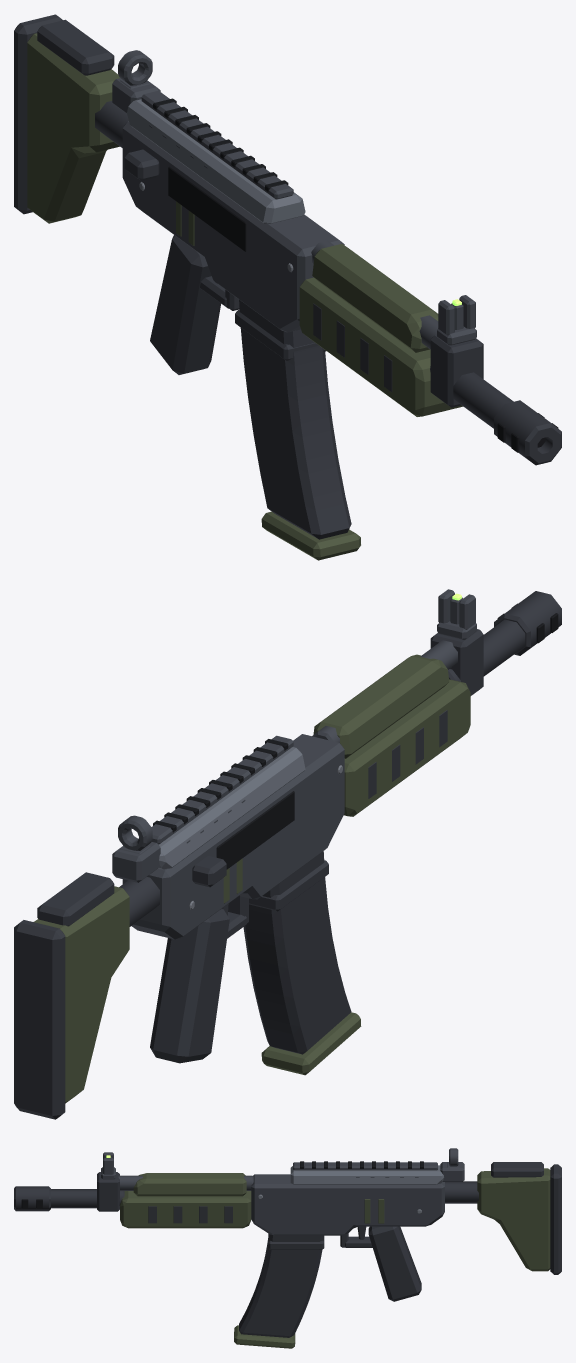
3 views of the same model, one above another, from view 1: azimuth 30°, elevation 25°; view 2: azimuth 150°, elevation 25°; view 3: azimuth 270°, elevation 25° (orthographic). The views are drawn at different scales.
Parts seen in each view (by area): view 1: mag_wzB__dark__p353840, body_wzB__frame__p444851, guard_wzA__body__p4d5640, stock_wzA__body__p4d5640, grip_wzB__dark__p353840, barrel_wzB__dark__p353840, stock_wzB__dark__p353840, sight_wzN__frame__p444851, body_wzA__deck__p676d78, trim_wzN__black__p16171b, mag_wzN__body__p4d5640, guard_wzN__dark__p353840 (+1 smaller); view 2: body_wzB__frame__p444851, mag_wzB__dark__p353840, stock_wzB__dark__p353840, guard_wzA__body__p4d5640, grip_wzB__dark__p353840, stock_wzA__body__p4d5640, sight_wzN__frame__p444851, barrel_wzB__dark__p353840, body_wzA__deck__p676d78, trim_wzN__black__p16171b, mag_wzN__body__p4d5640, guard_wzN__dark__p353840 (+1 smaller); view 3: body_wzB__frame__p444851, guard_wzA__body__p4d5640, mag_wzB__dark__p353840, stock_wzA__body__p4d5640, grip_wzB__dark__p353840, stock_wzB__dark__p353840, barrel_wzB__dark__p353840, body_wzA__deck__p676d78, sight_wzN__frame__p444851, mag_wzN__body__p4d5640, guard_wzN__dark__p353840, trim_wzN__black__p16171b (+1 smaller).
Boxes of the visible parts, x1,y1,x2,y2 form: mag_wzB__dark__p353840: (235,299,351,539); body_wzB__frame__p444851: (122,121,438,349); guard_wzA__body__p4d5640: (299,244,462,416); stock_wzA__body__p4d5640: (27,33,119,223); grip_wzB__dark__p353840: (150,235,239,374); barrel_wzB__dark__p353840: (430,334,561,465); stock_wzB__dark__p353840: (14,14,128,214); sight_wzN__frame__p444851: (112,50,476,345); body_wzA__deck__p676d78: (127,99,305,223); trim_wzN__black__p16171b: (153,98,558,452); mag_wzN__body__p4d5640: (261,511,360,560); guard_wzN__dark__p353840: (313,303,392,392); body_wzB__frame__p444851: (122,640,457,939); mag_wzB__dark__p353840: (243,851,351,1054); stock_wzB__dark__p353840: (14,872,159,1119); guard_wzA__body__p4d5640: (313,654,470,816); grip_wzB__dark__p353840: (150,895,248,1063); stock_wzA__body__p4d5640: (34,886,129,1103); sight_wzN__frame__p444851: (112,589,476,882); barrel_wzB__dark__p353840: (430,591,561,695); body_wzA__deck__p676d78: (158,747,305,869); trim_wzN__black__p16171b: (153,603,558,869); mag_wzN__body__p4d5640: (261,1012,361,1075); guard_wzN__dark__p353840: (368,710,447,798); body_wzB__frame__p444851: (118,1174,444,1235); guard_wzA__body__p4d5640: (120,1173,251,1228); mag_wzB__dark__p353840: (239,1233,324,1337); stock_wzA__body__p4d5640: (477,1168,550,1271); grip_wzB__dark__p353840: (340,1226,421,1301); stock_wzB__dark__p353840: (445,1162,561,1274); barrel_wzB__dark__p353840: (14,1172,124,1211); body_wzA__deck__p676d78: (290,1165,443,1184); sight_wzN__frame__p444851: (101,1148,464,1181); mag_wzN__body__p4d5640: (234,1325,295,1348); guard_wzN__dark__p353840: (148,1206,232,1223); trim_wzN__black__p16171b: (21,1161,423,1208).
Size of the model in its own units: 0.0975 by 0.4653 by 1.19.
